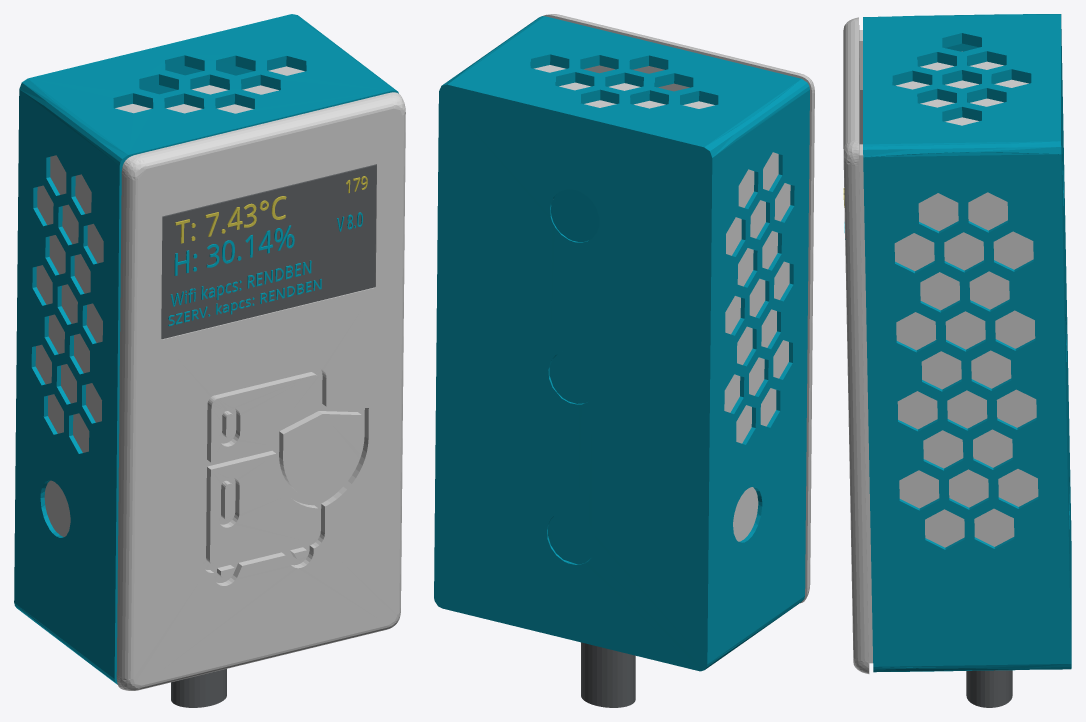
File: kek_feher.glb
3 views of the same model, side by side, from view 1: azimuth 30°, elevation 25°; view 2: azimuth 150°, elevation 25°; view 3: azimuth 270°, elevation 25° (orthographic). The views are drawn at different scales.
Parts seen in each view (by area): view 1: Mesh_Mesh_head_geo.001_lambert2SG.001; view 2: Mesh_Mesh_head_geo.001_lambert2SG.001; view 3: Mesh_Mesh_head_geo.001_lambert2SG.001.
Boxes of the visible parts, box(x1,y1,x2,y2) form: Mesh_Mesh_head_geo.001_lambert2SG.001: box(14, 14, 405, 707); Mesh_Mesh_head_geo.001_lambert2SG.001: box(434, 14, 814, 707); Mesh_Mesh_head_geo.001_lambert2SG.001: box(843, 14, 1071, 707).
Bounding box in the file's own units: 33 × 70.15 × 23.52.
